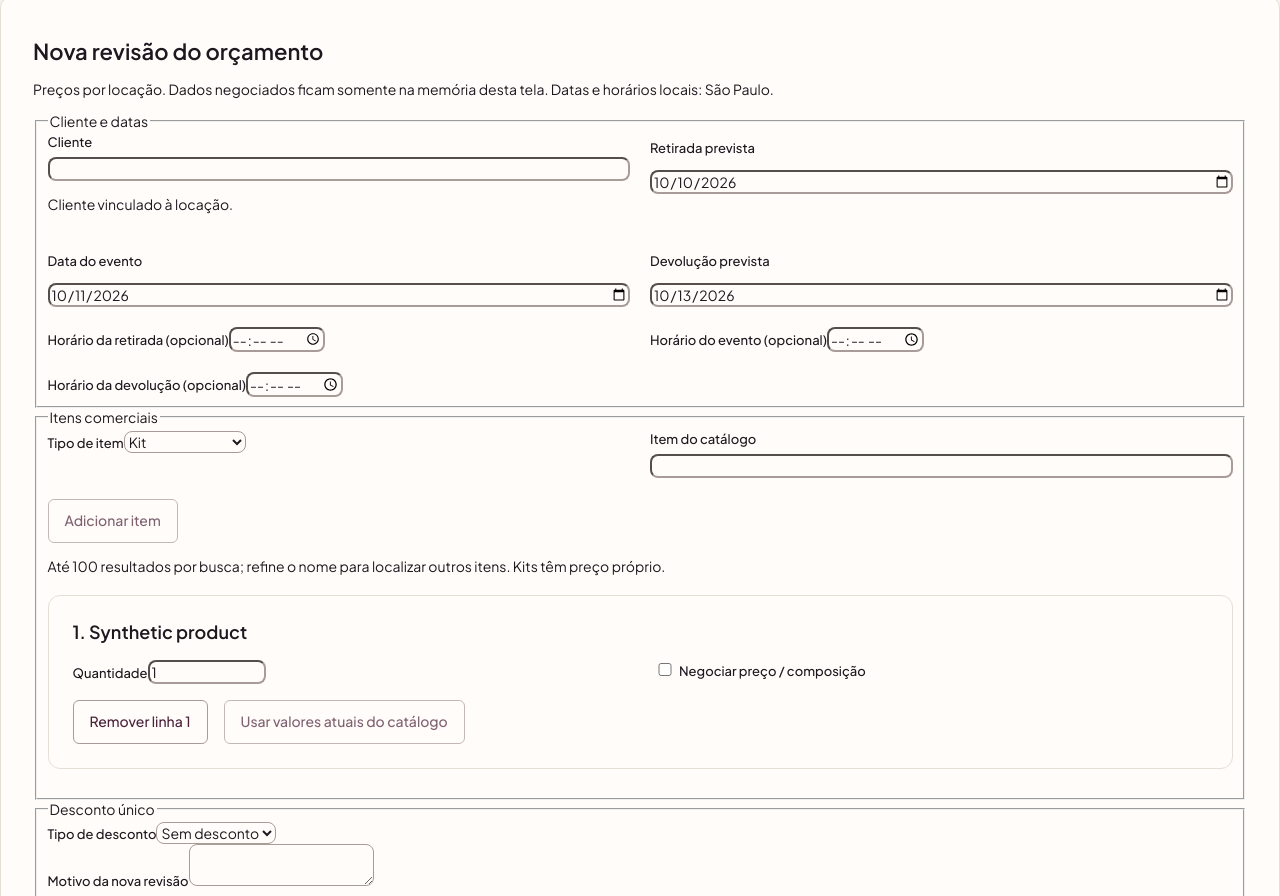
does not request rental or money for an ordinary commercial revision conflict
This screenshot has width=1280, height=896.
Type "Synthetic ordinary revision" into the text box labelled "Motivo da nova revisão".
click(281, 865); type("Synthetic ordinary revision")  # box [188, 844, 374, 886]
(page scrolled)
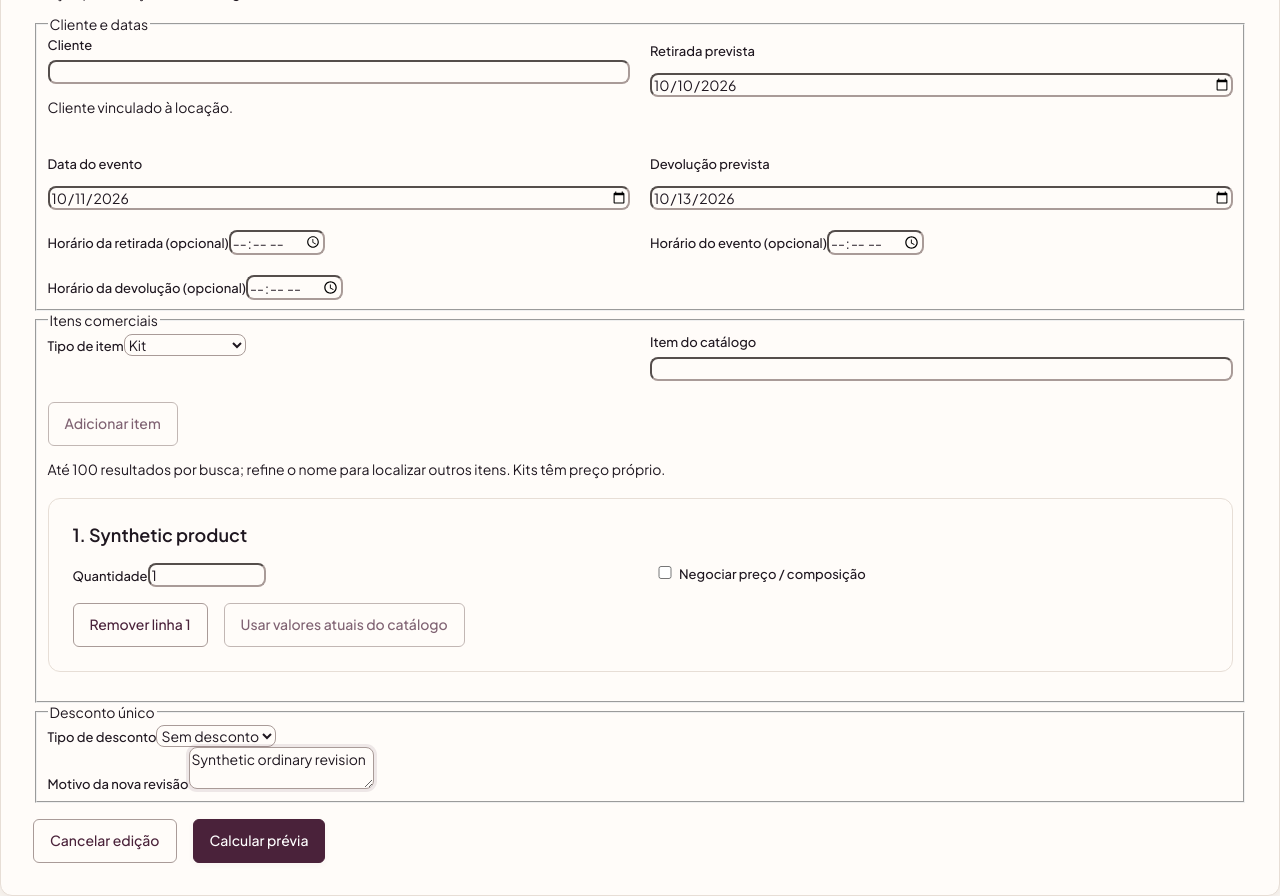
Click the button "Calcular prévia".
click(259, 841)  # box [192, 819, 326, 863]
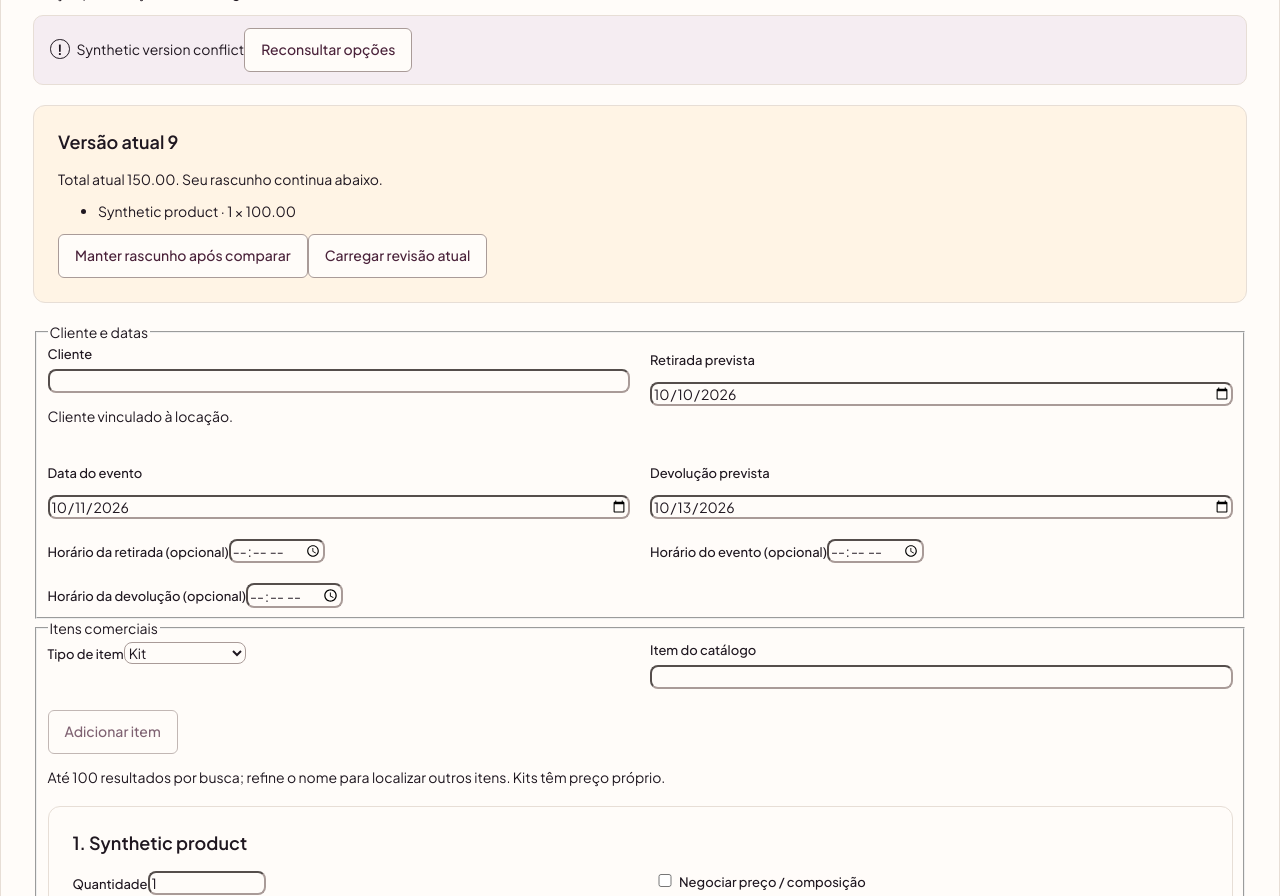
Now the heading "Versão atual 9" is shown, box [58, 130, 178, 153]
